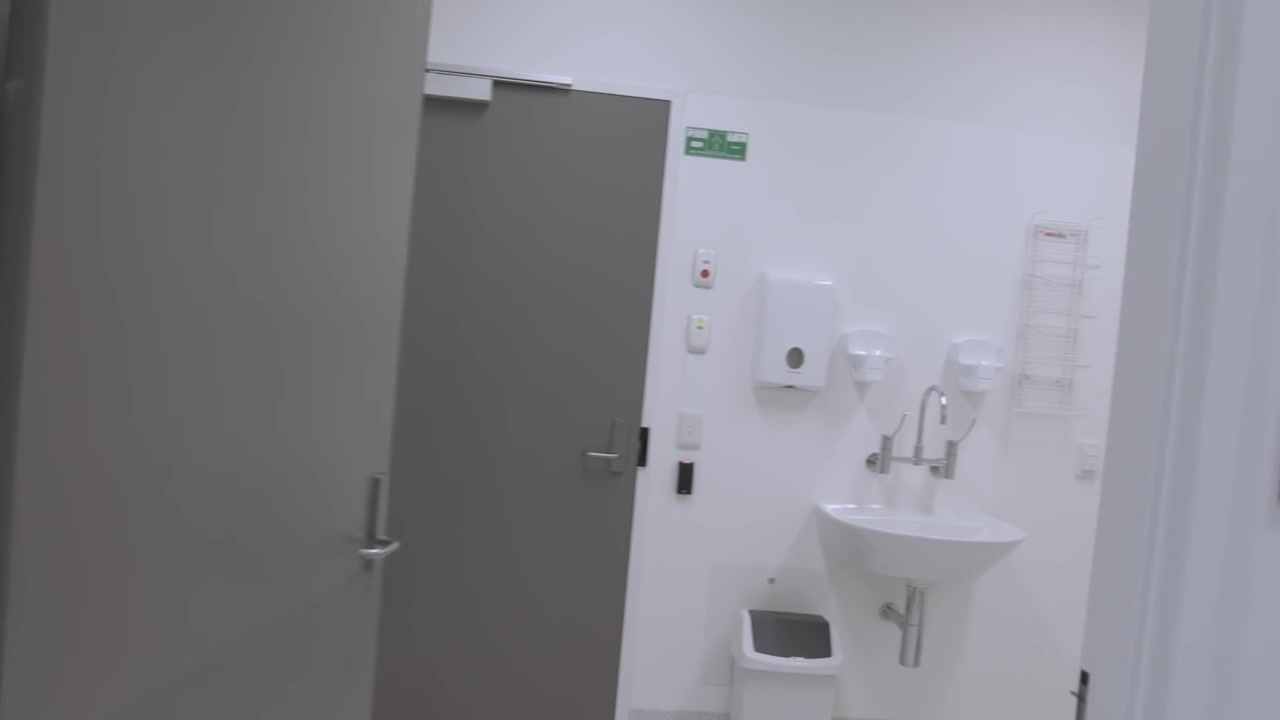dispenser: (751, 270, 838, 392), (848, 327, 895, 383), (957, 342, 1002, 394)
door_handle: (355, 471, 402, 583), (584, 409, 629, 482)
faucet: (866, 383, 974, 481)
sink: (812, 500, 1025, 585)
waste_bin: (728, 608, 845, 720)
